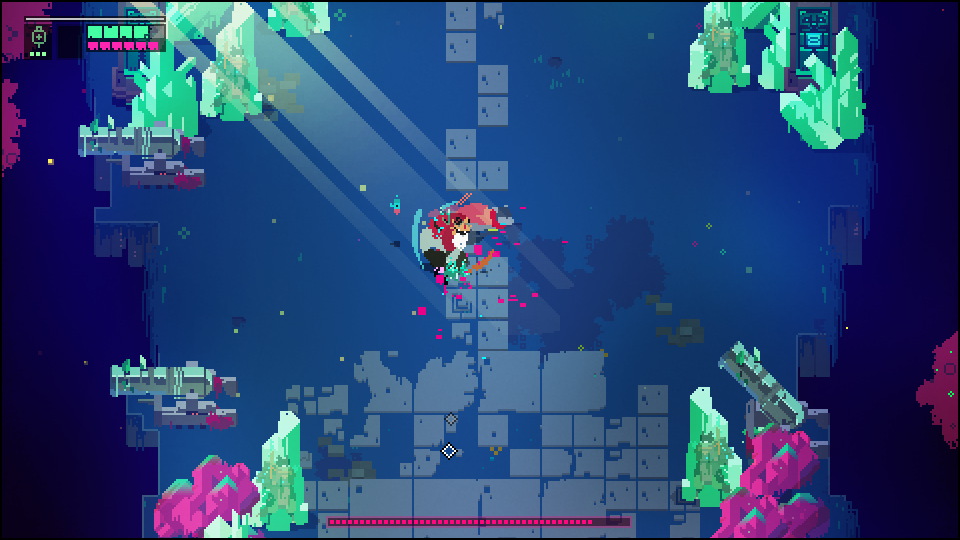hanged_man: (412, 199, 484, 289)
player: (455, 198, 518, 234)
